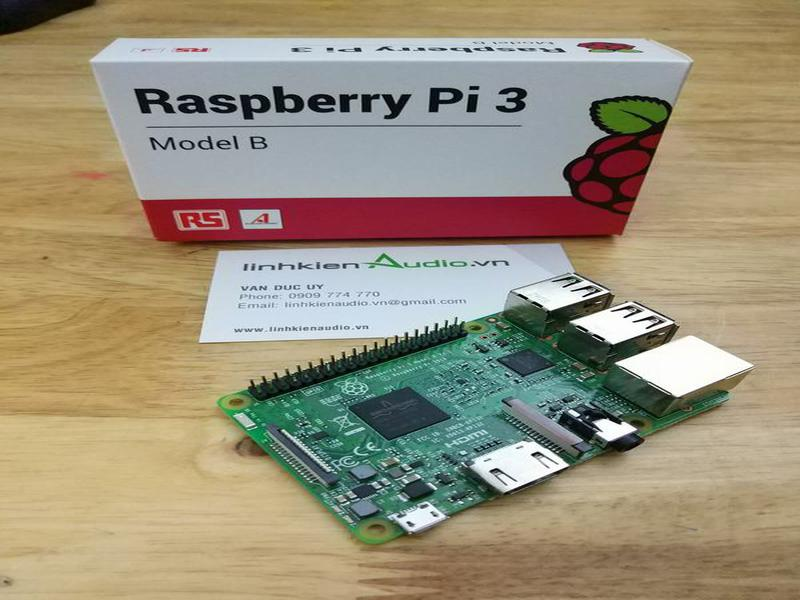Raspberry_Pi_3: (211, 266, 759, 548)
